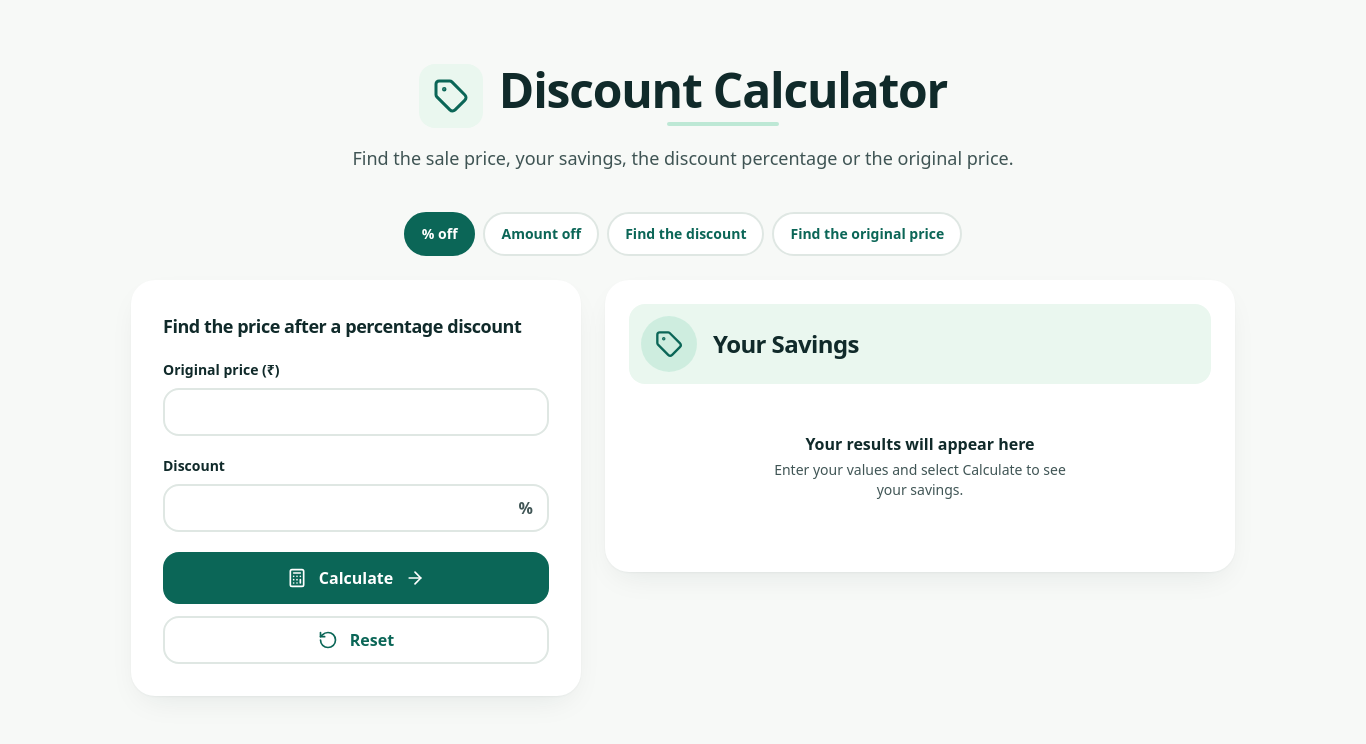
Test: Discount Calculator › shows errors and focuses the first invalid field
The width and height of the screenshot is (1366, 744).
Step 1. Click the button "Calculate" → (356, 578), box [163, 552, 549, 604]
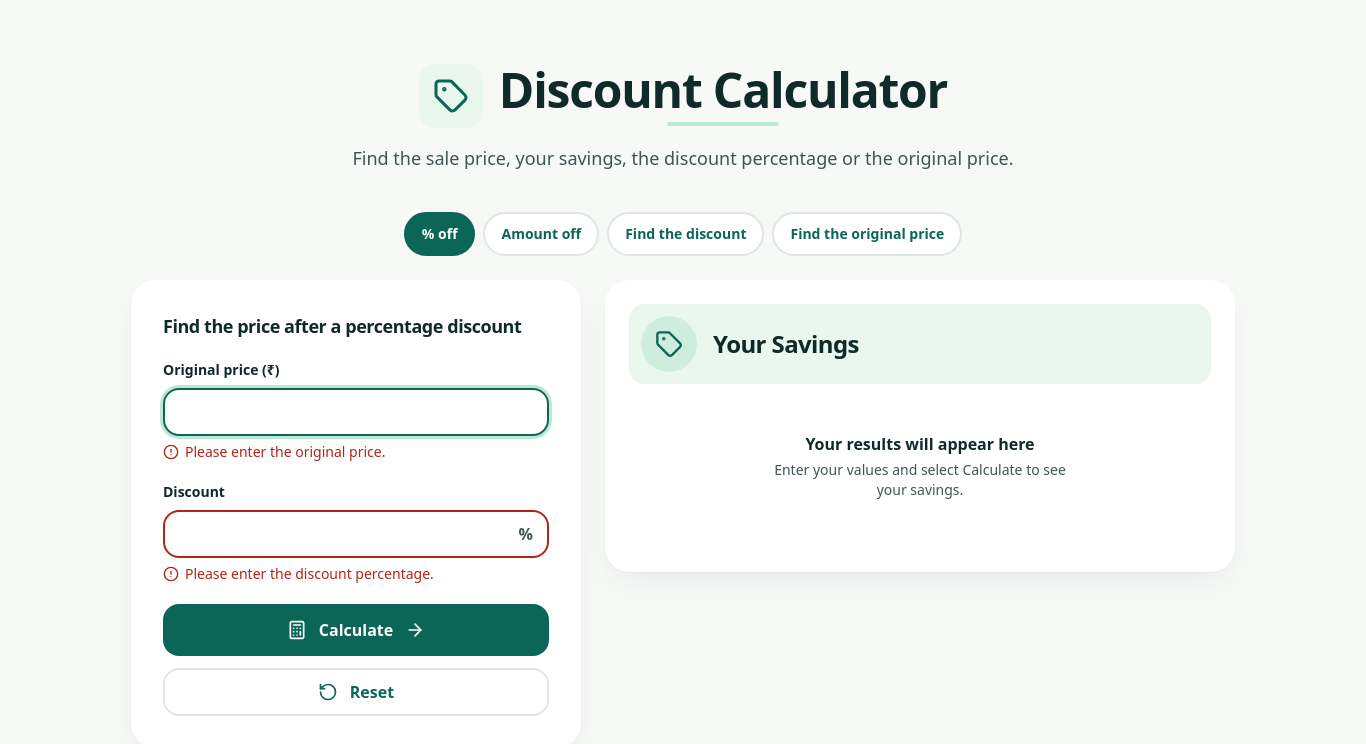
Expected: the text "Your results will appear here" is shown, [805, 433, 1035, 455]
Now the text "Please enter the original price." is shown, box [163, 442, 386, 461]
